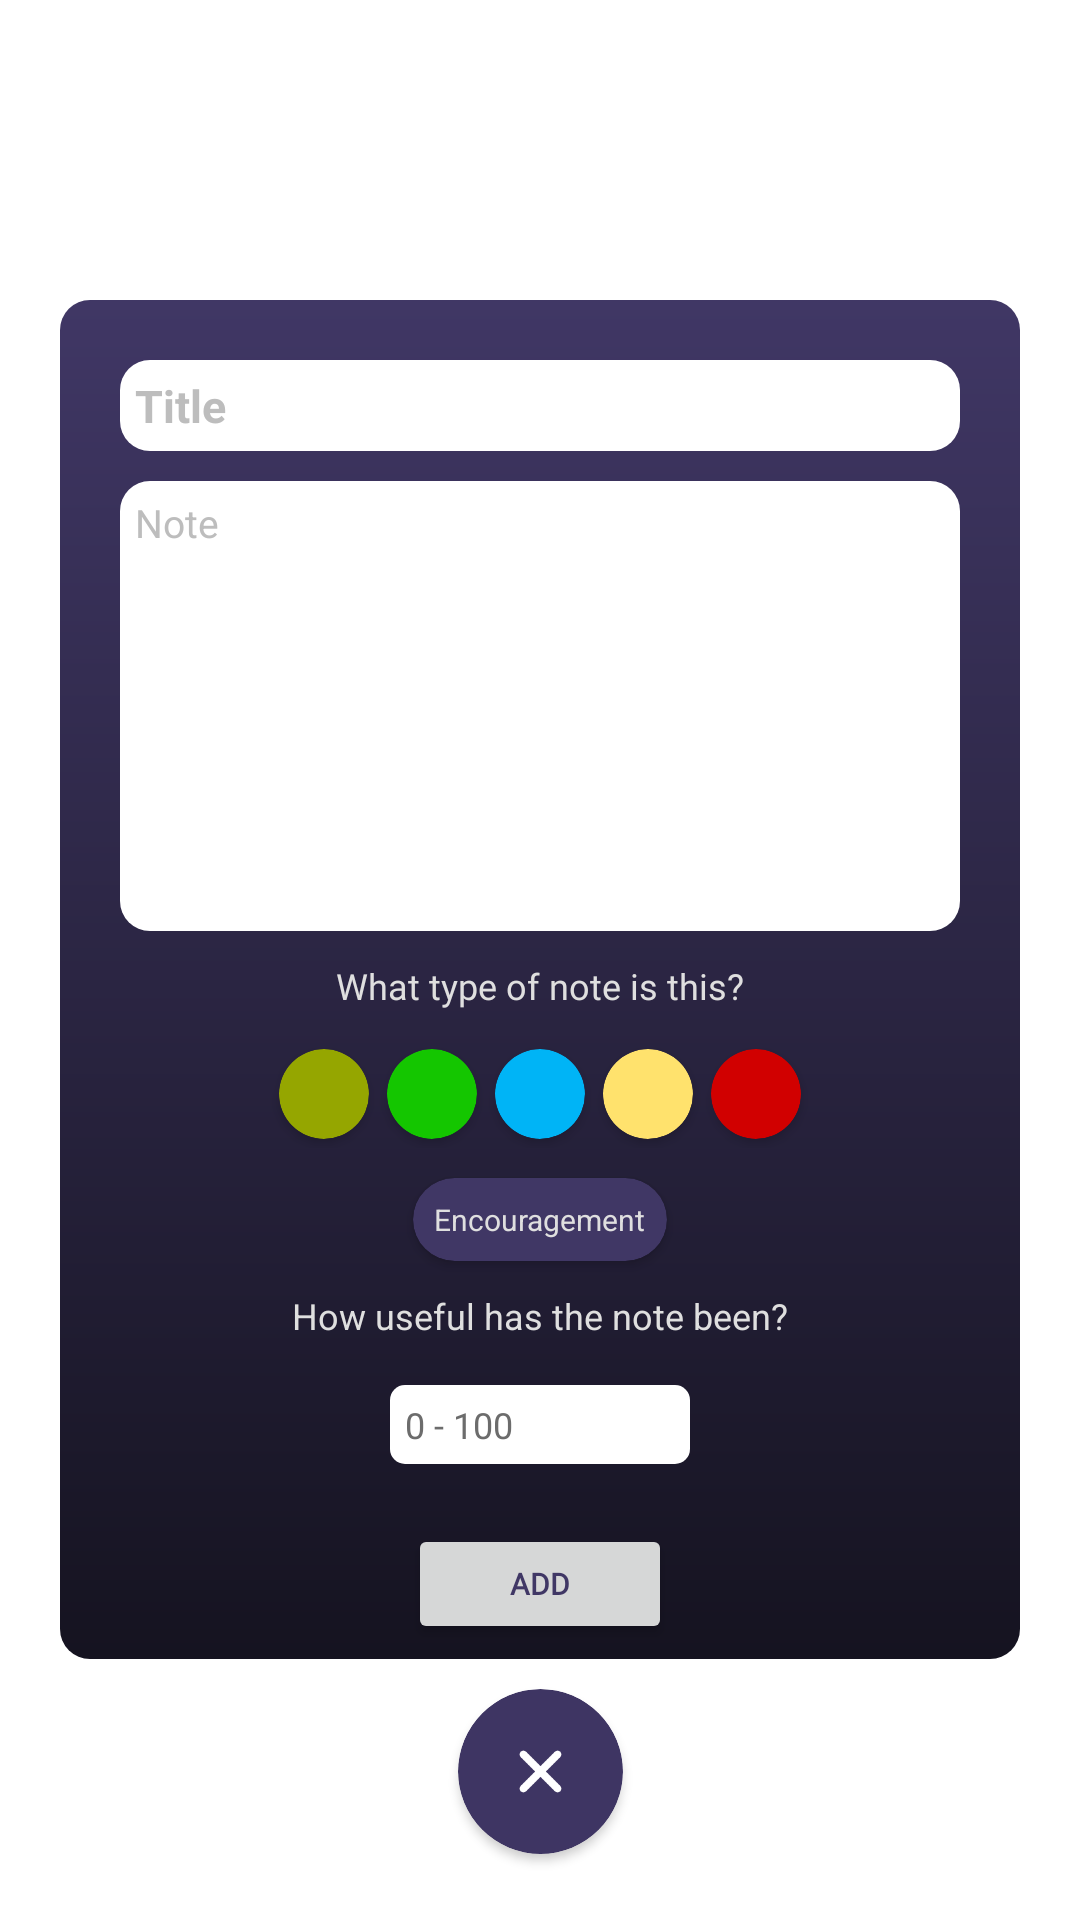

Icons on this 1080 x 1920 Android screen, each with its box as (x1, y1, x2, y2):
cancel: (519, 1750, 562, 1793)
